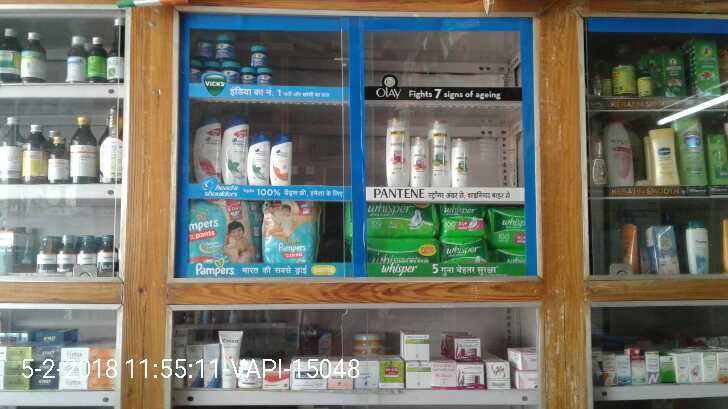vicks: (186, 27, 272, 85)
